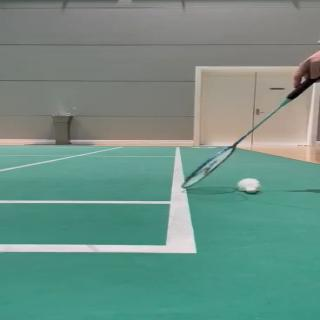Shuttle: (237, 178, 260, 193)
